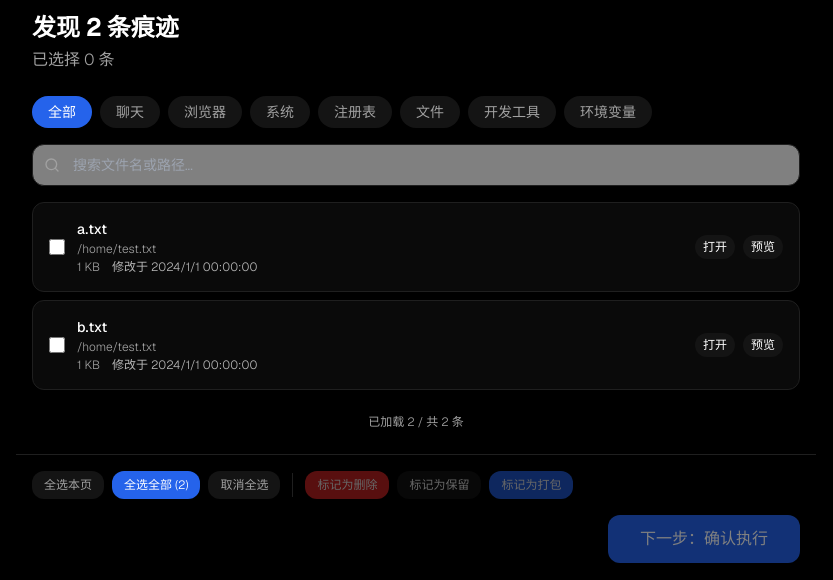
ResultsPage › select all page and deselect all buttons work
Check: the text "a.txt" is shown, box 77,219 -> 107,239
Check: the checkbox below "b.txt" is not checked, box 49,337 -> 65,353
// Check one first
What coordinates should you click on to do the following:
click the checkbox below "a.txt"
I would click on:
 (57, 247)
Its box is 49,239 -> 65,255.
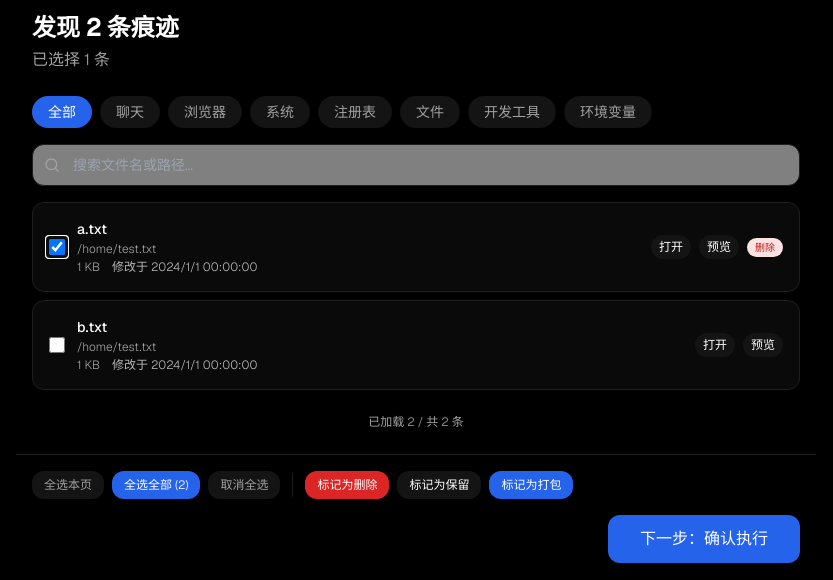
Check: the checkbox below "b.txt" is not checked, box 49,337 -> 65,353
Check: the checkbox below "a.txt" is checked, box 49,239 -> 65,255
// Select all page
What coordinates should you click on to do the following:
click the button "全选本页"
I would click on:
 (68, 485)
Its box is 32,471 -> 104,499.
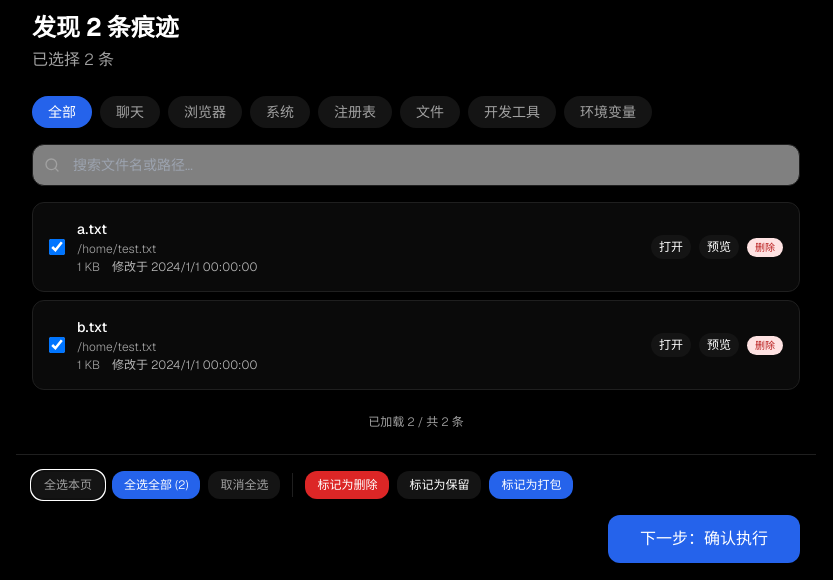
Check: the checkbox below "a.txt" is checked, box 49,239 -> 65,255
Check: the checkbox below "b.txt" is checked, box 49,337 -> 65,353
// Deselect all
What coordinates should you click on to do the following:
click the button "取消全选"
I would click on:
 (244, 485)
Its box is 208,471 -> 280,499.
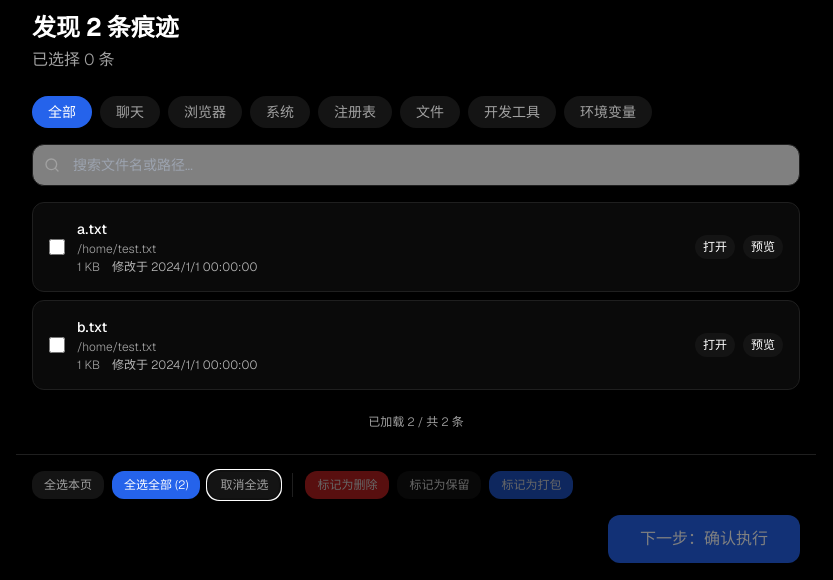
Check: the checkbox below "a.txt" is not checked, box 49,239 -> 65,255
Check: the checkbox below "b.txt" is not checked, box 49,337 -> 65,353
